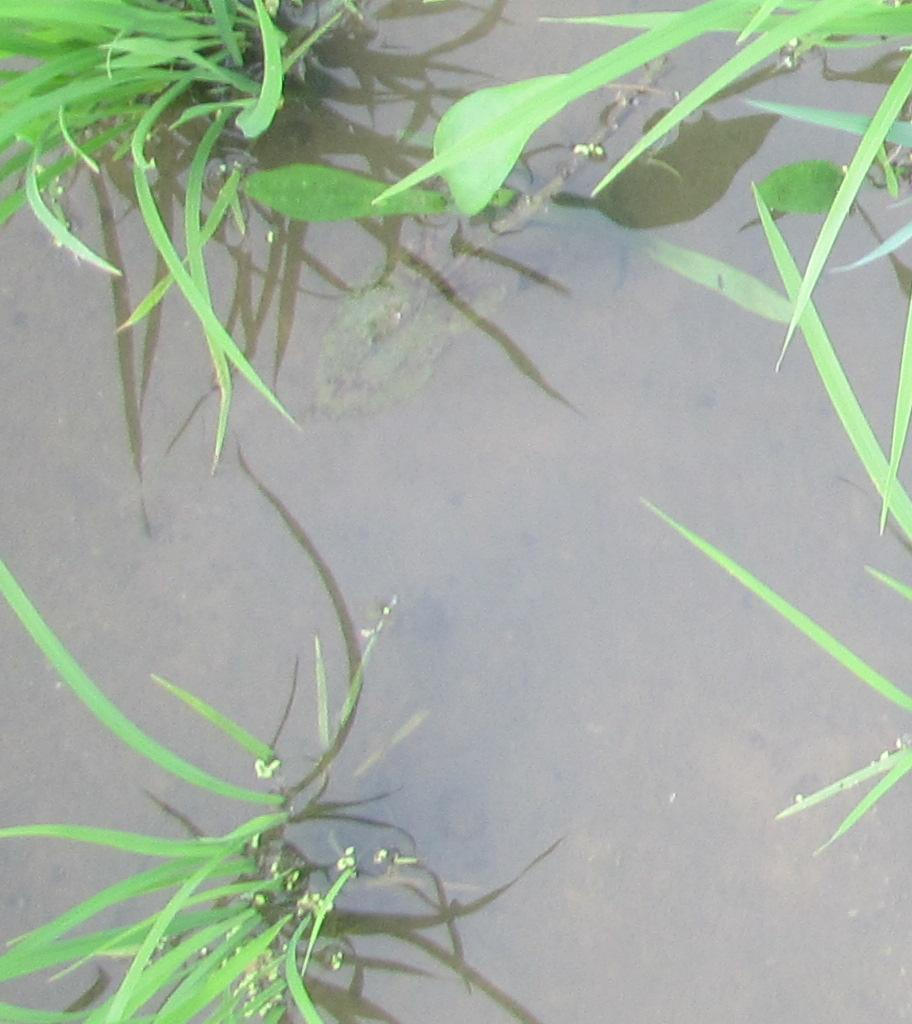Weed: (428, 58, 582, 235), (241, 163, 425, 236)
